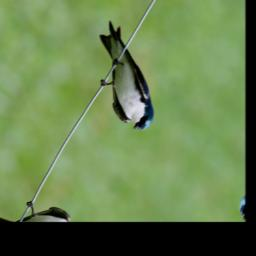Swallow: (72, 17, 181, 139)
